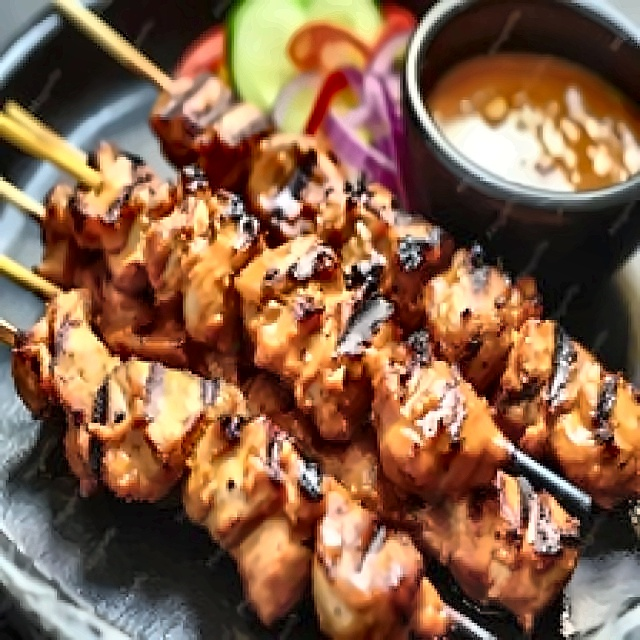cucumber_slice: (229, 0, 308, 108), (306, 0, 382, 39)
satay_skewer: (6, 106, 437, 639), (238, 235, 511, 499), (12, 292, 242, 499), (235, 235, 391, 442), (403, 472, 579, 631), (492, 320, 639, 508), (143, 181, 265, 379), (315, 181, 454, 331), (38, 143, 177, 291), (69, 143, 177, 291), (149, 75, 274, 191), (149, 75, 234, 165), (38, 183, 97, 288)
